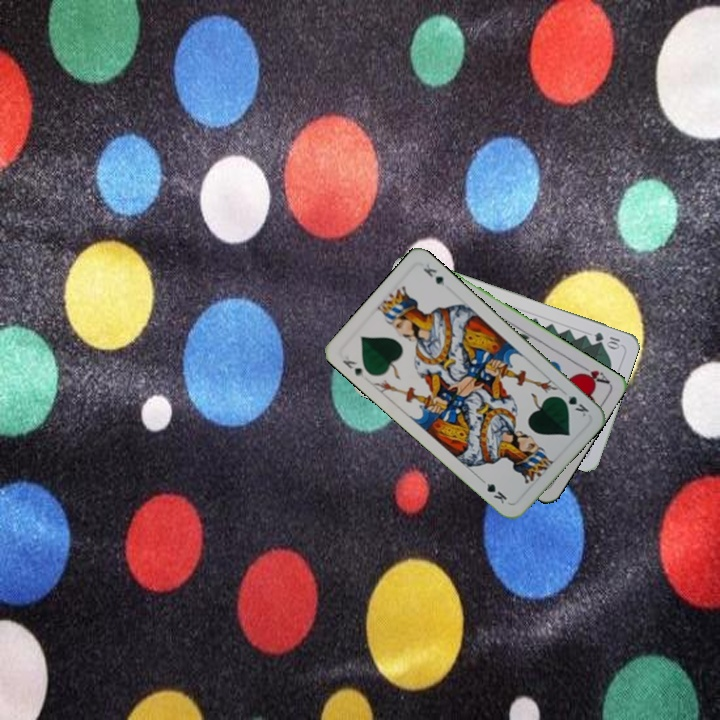G10: (590, 328, 624, 351)
GK: (555, 391, 592, 419), (339, 356, 366, 381)
HA: (573, 360, 612, 387)
